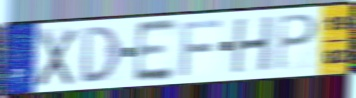D: (81, 24, 124, 85)
E: (132, 17, 179, 85)
F: (179, 18, 224, 79)
H: (230, 14, 276, 76)
P: (275, 13, 320, 73)
X: (34, 27, 80, 89)
